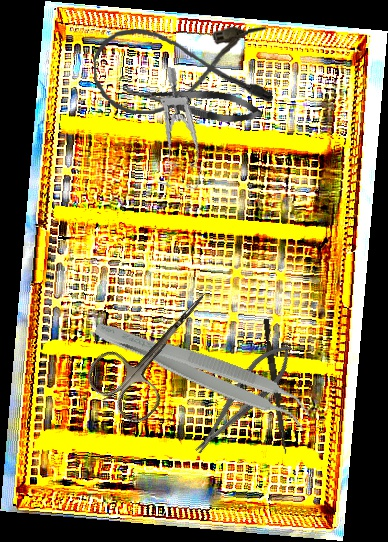Cannula: (91, 22, 274, 117)
Iris Scissors: (79, 267, 237, 430)
Micro Scissor: (120, 75, 265, 129)
Needle Holder: (183, 334, 303, 463)
Pusher: (259, 318, 293, 455)
Speculum: (147, 66, 217, 192)
Tissue Forceps: (87, 314, 317, 433)
